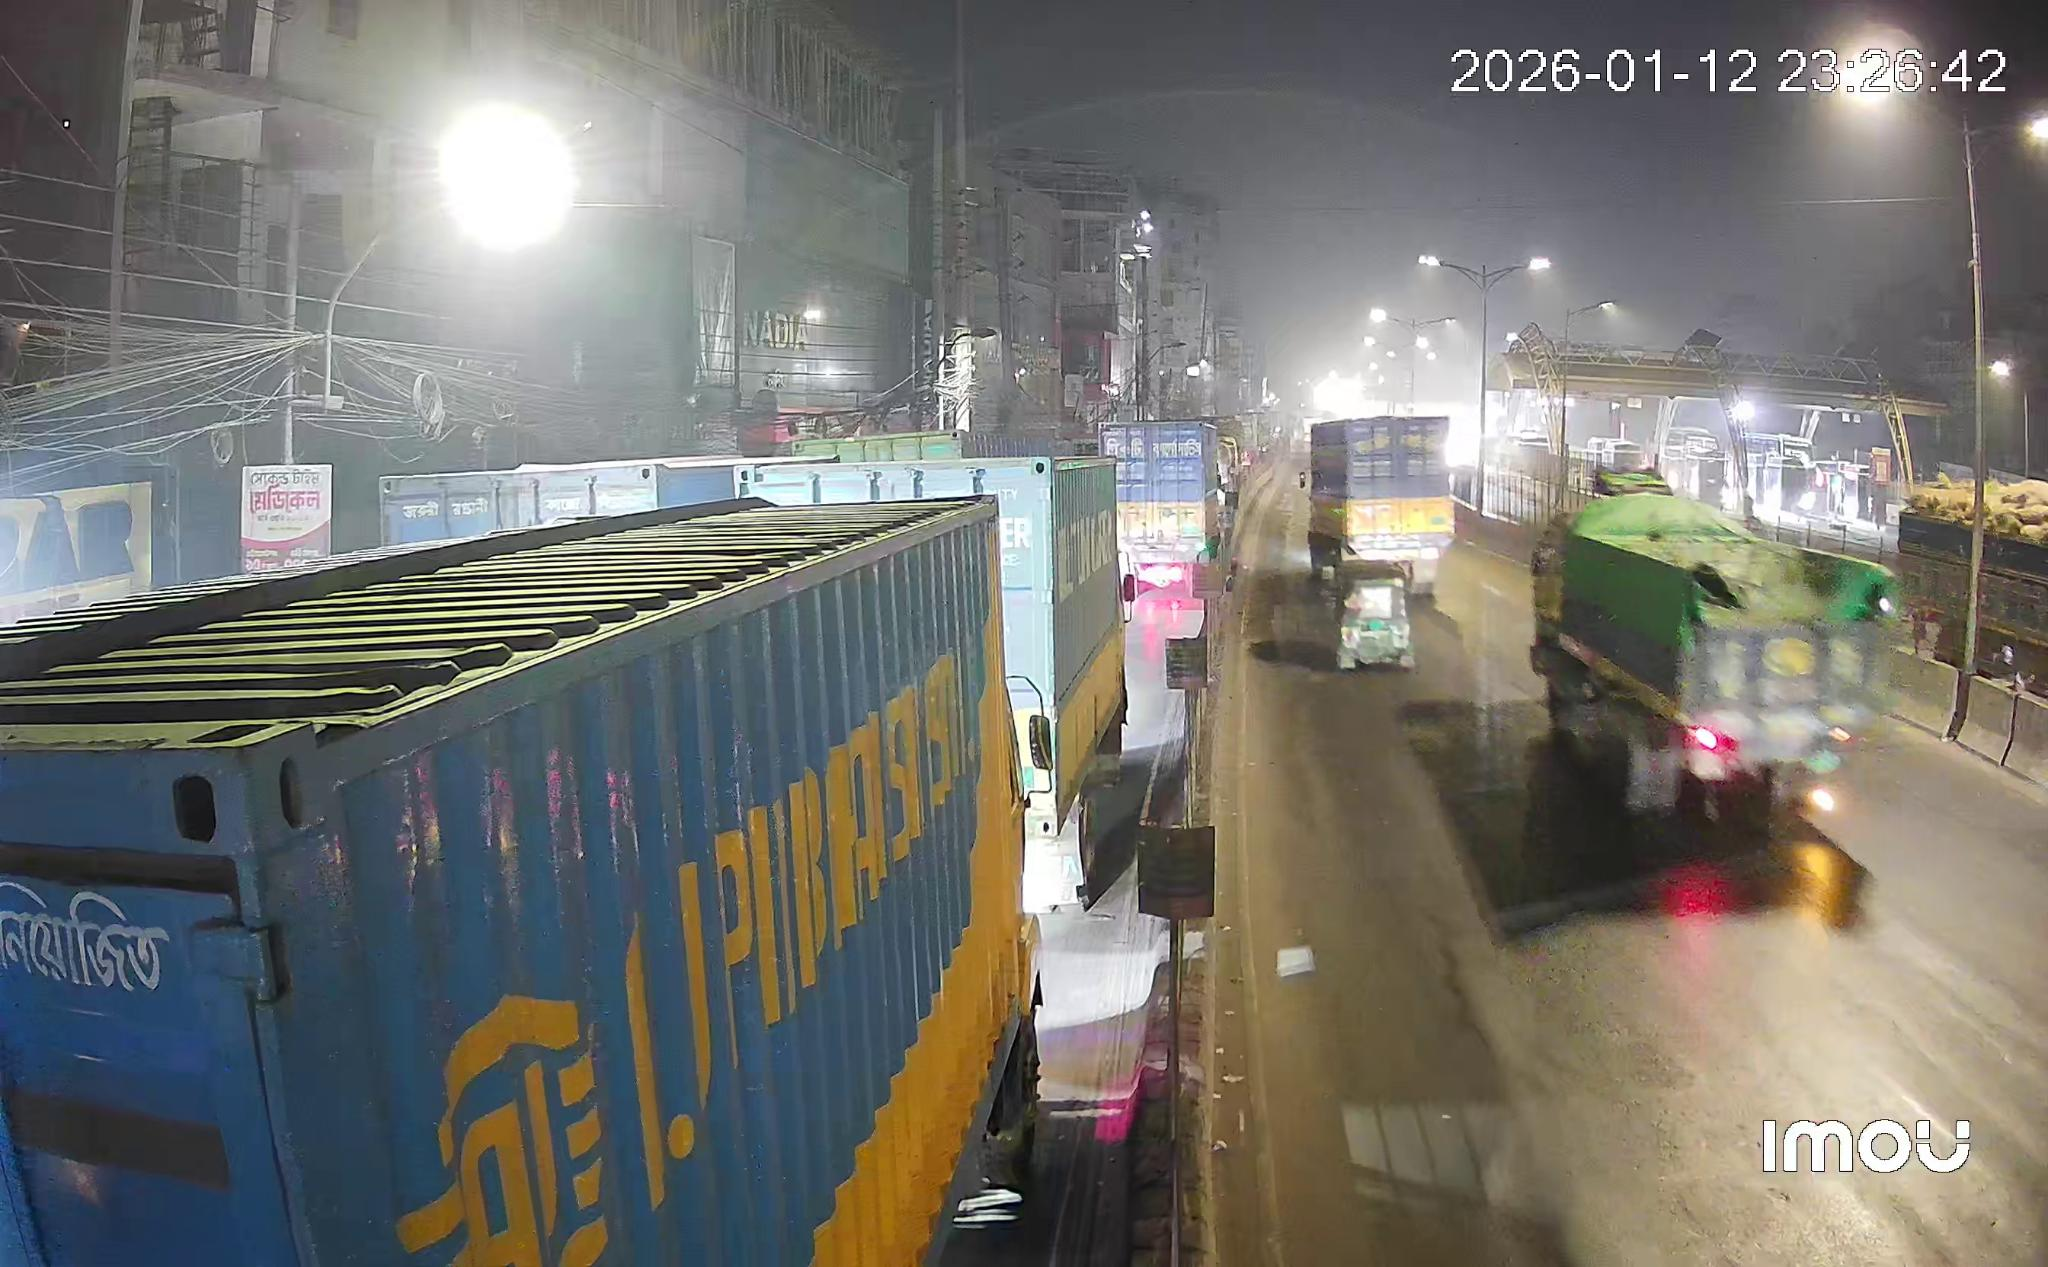CNG-Tempo: (1320, 560, 1414, 670)
Truck: (0, 495, 1040, 1267), (738, 456, 1127, 910), (1529, 470, 1894, 822), (1886, 475, 2047, 685), (1308, 416, 1454, 597), (1099, 421, 1224, 600)
